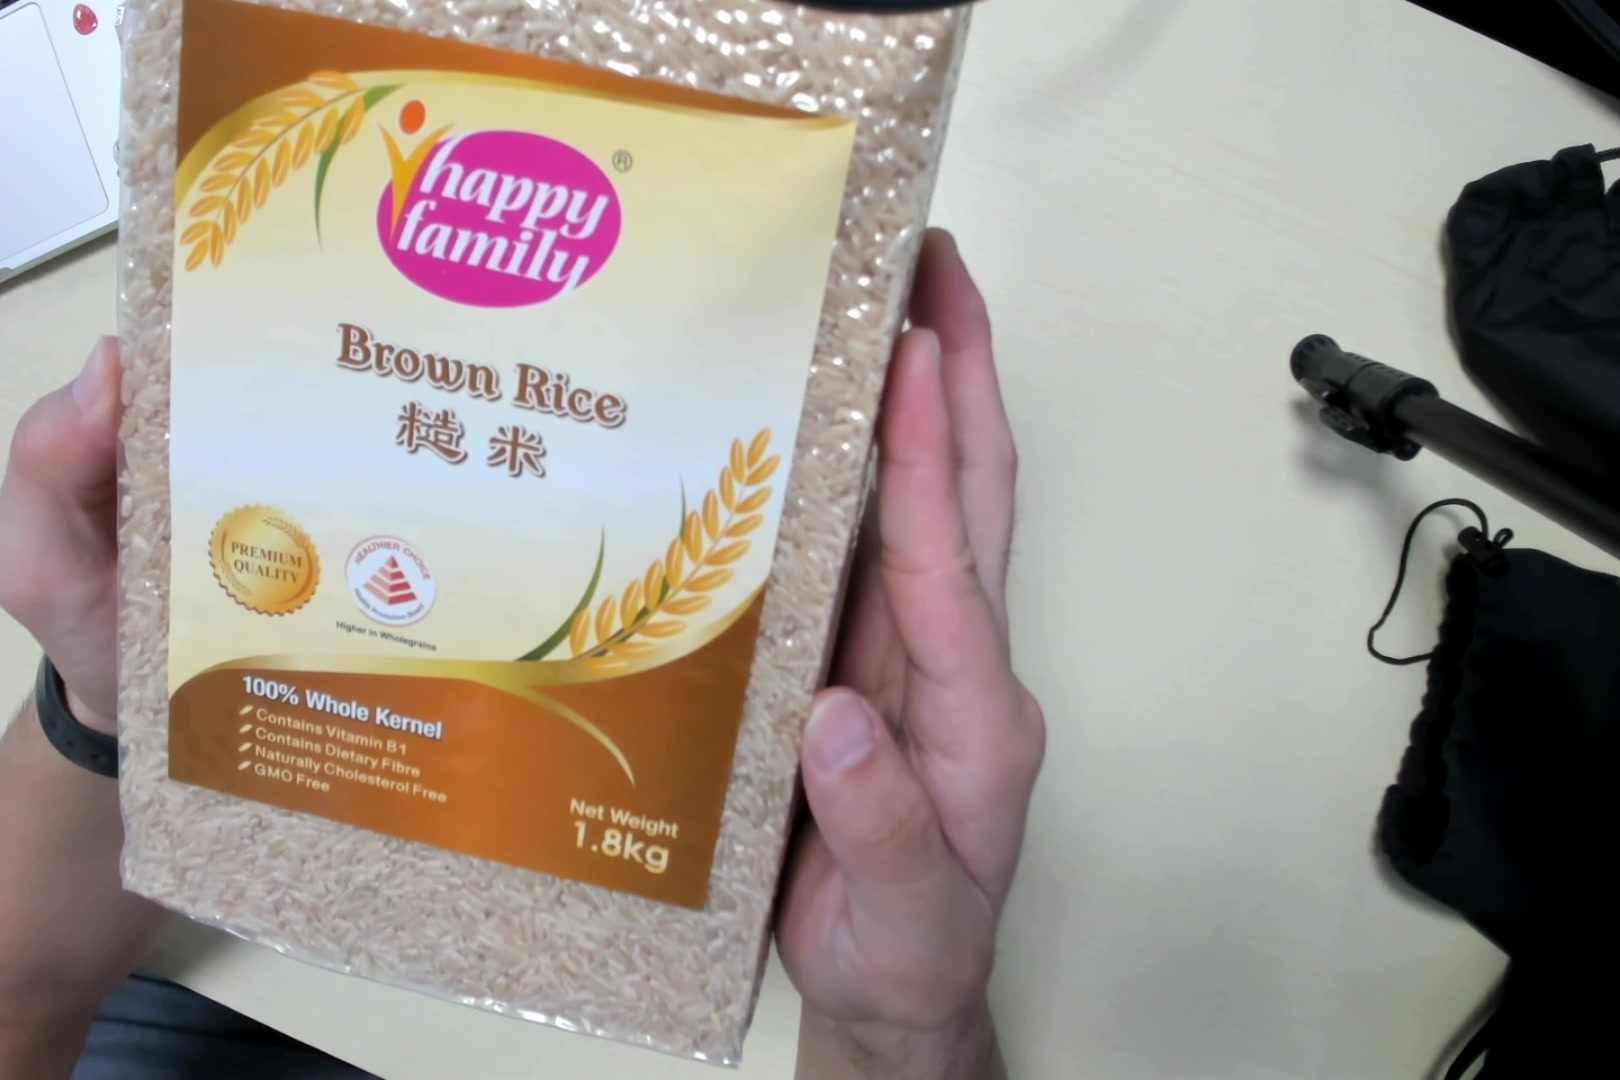Rice(BrownOthers)_1000-1999g_NonHalal_Healthy: (118, 1, 914, 1052)
